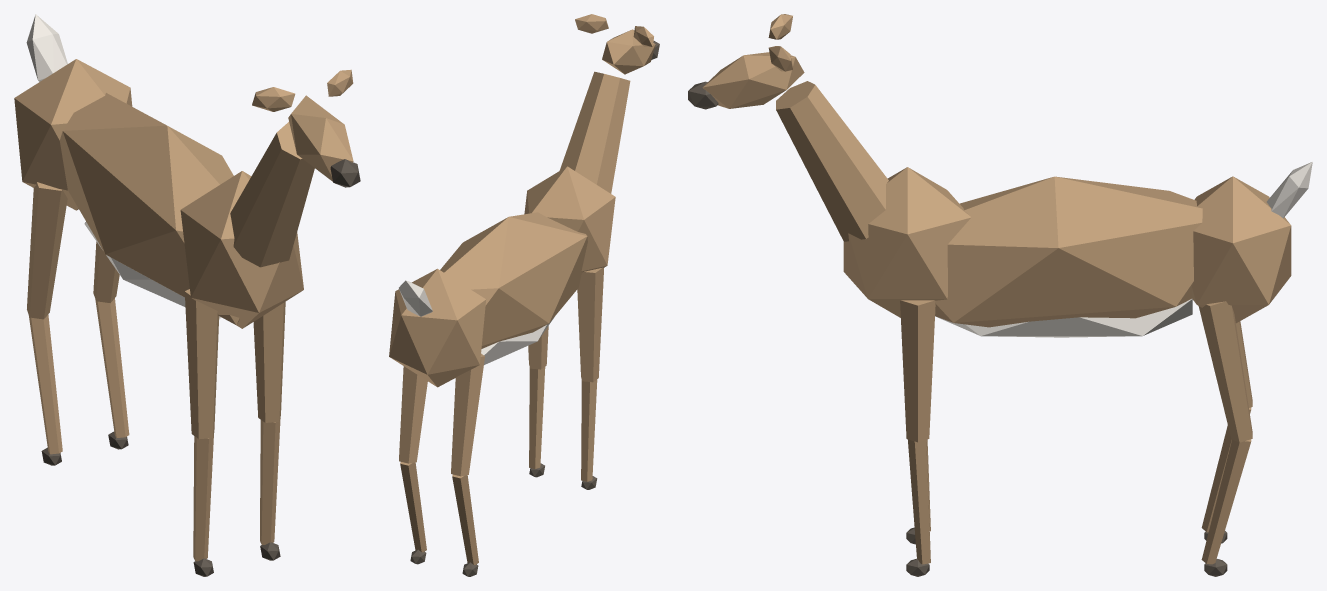
Rendered from deer.glb.
3 renders of one model, left to right at view 1: azimuth 30°, elevation 25°; view 2: azimuth 150°, elevation 25°; view 3: azimuth 270°, elevation 25°, orthographic. The views are drawn at different scales.
Parts seen in each view (by area): view 1: Deer_body, Deer_chest, Deer_neck, Deer_rump, Deer_leg-11a, Deer_leg-10a, Deer_head, Deer_leg11a, Deer_leg-10b, Deer_leg10b, Deer_leg-11b, Deer_leg11b (+6 smaller); view 2: Deer_body, Deer_rump, Deer_neck, Deer_chest, Deer_leg-11a, Deer_leg-10a, Deer_leg10a, Deer_head, Deer_leg-11b, Deer_leg11b, Deer_leg10b, Deer_leg-10b (+4 smaller); view 3: Deer_body, Deer_chest, Deer_rump, Deer_neck, Deer_leg11a, Deer_leg10a, Deer_belly, Deer_head, Deer_leg10b, Deer_leg11b, Deer_tail, Deer_leg-10b.
Part boxes in pixels (left/top/right/bottom): Deer_body: left=59, top=93, right=239, bottom=324; Deer_chest: left=180, top=171, right=303, bottom=328; Deer_neck: left=230, top=122, right=314, bottom=267; Deer_rump: left=14, top=59, right=132, bottom=210; Deer_leg-11a: left=184, top=289, right=219, bottom=439; Deer_leg-10a: left=27, top=182, right=67, bottom=319; Deer_head: left=288, top=95, right=353, bottom=183; Deer_leg11a: left=253, top=302, right=285, bottom=422; Deer_leg-10b: left=28, top=315, right=62, bottom=454; Deer_leg10b: left=95, top=298, right=129, bottom=437; Deer_leg-11b: left=193, top=434, right=213, bottom=561; Deer_leg11b: left=260, top=418, right=280, bottom=544; Deer_body: left=440, top=212, right=587, bottom=348; Deer_rump: left=389, top=268, right=486, bottom=387; Deer_neck: left=559, top=71, right=630, bottom=193; Deer_chest: left=524, top=166, right=615, bottom=272; Deer_leg-11a: left=577, top=267, right=603, bottom=382; Deer_leg-10a: left=451, top=353, right=484, bottom=476; Deer_leg10a: left=399, top=366, right=427, bottom=463; Deer_head: left=602, top=29, right=655, bottom=74; Deer_leg-11b: left=581, top=379, right=597, bottom=481; Deer_leg11b: left=529, top=367, right=545, bottom=468; Deer_leg10b: left=400, top=462, right=426, bottom=552; Deer_leg-10b: left=452, top=474, right=478, bottom=564; Deer_body: left=935, top=176, right=1202, bottom=327; Deer_chest: left=843, top=167, right=971, bottom=317; Deer_rump: left=1192, top=176, right=1291, bottom=323; Deer_neck: left=776, top=81, right=888, bottom=241; Deer_leg11a: left=900, top=300, right=935, bottom=442; Deer_leg10a: left=1198, top=301, right=1252, bottom=442; Deer_belly: left=935, top=299, right=1192, bottom=337; Deer_head: left=702, top=52, right=804, bottom=108; Deer_leg10b: left=1201, top=439, right=1251, bottom=564; Deer_leg11b: left=907, top=439, right=930, bottom=564; Deer_tail: left=1267, top=162, right=1312, bottom=218; Deer_leg-10b: left=1201, top=407, right=1251, bottom=532.
Size of the model in its own units: 0.3757 by 1.71 by 1.82.
